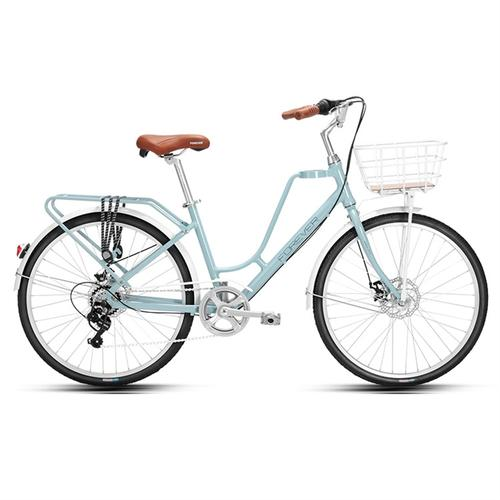单车: (10, 86, 494, 421)
